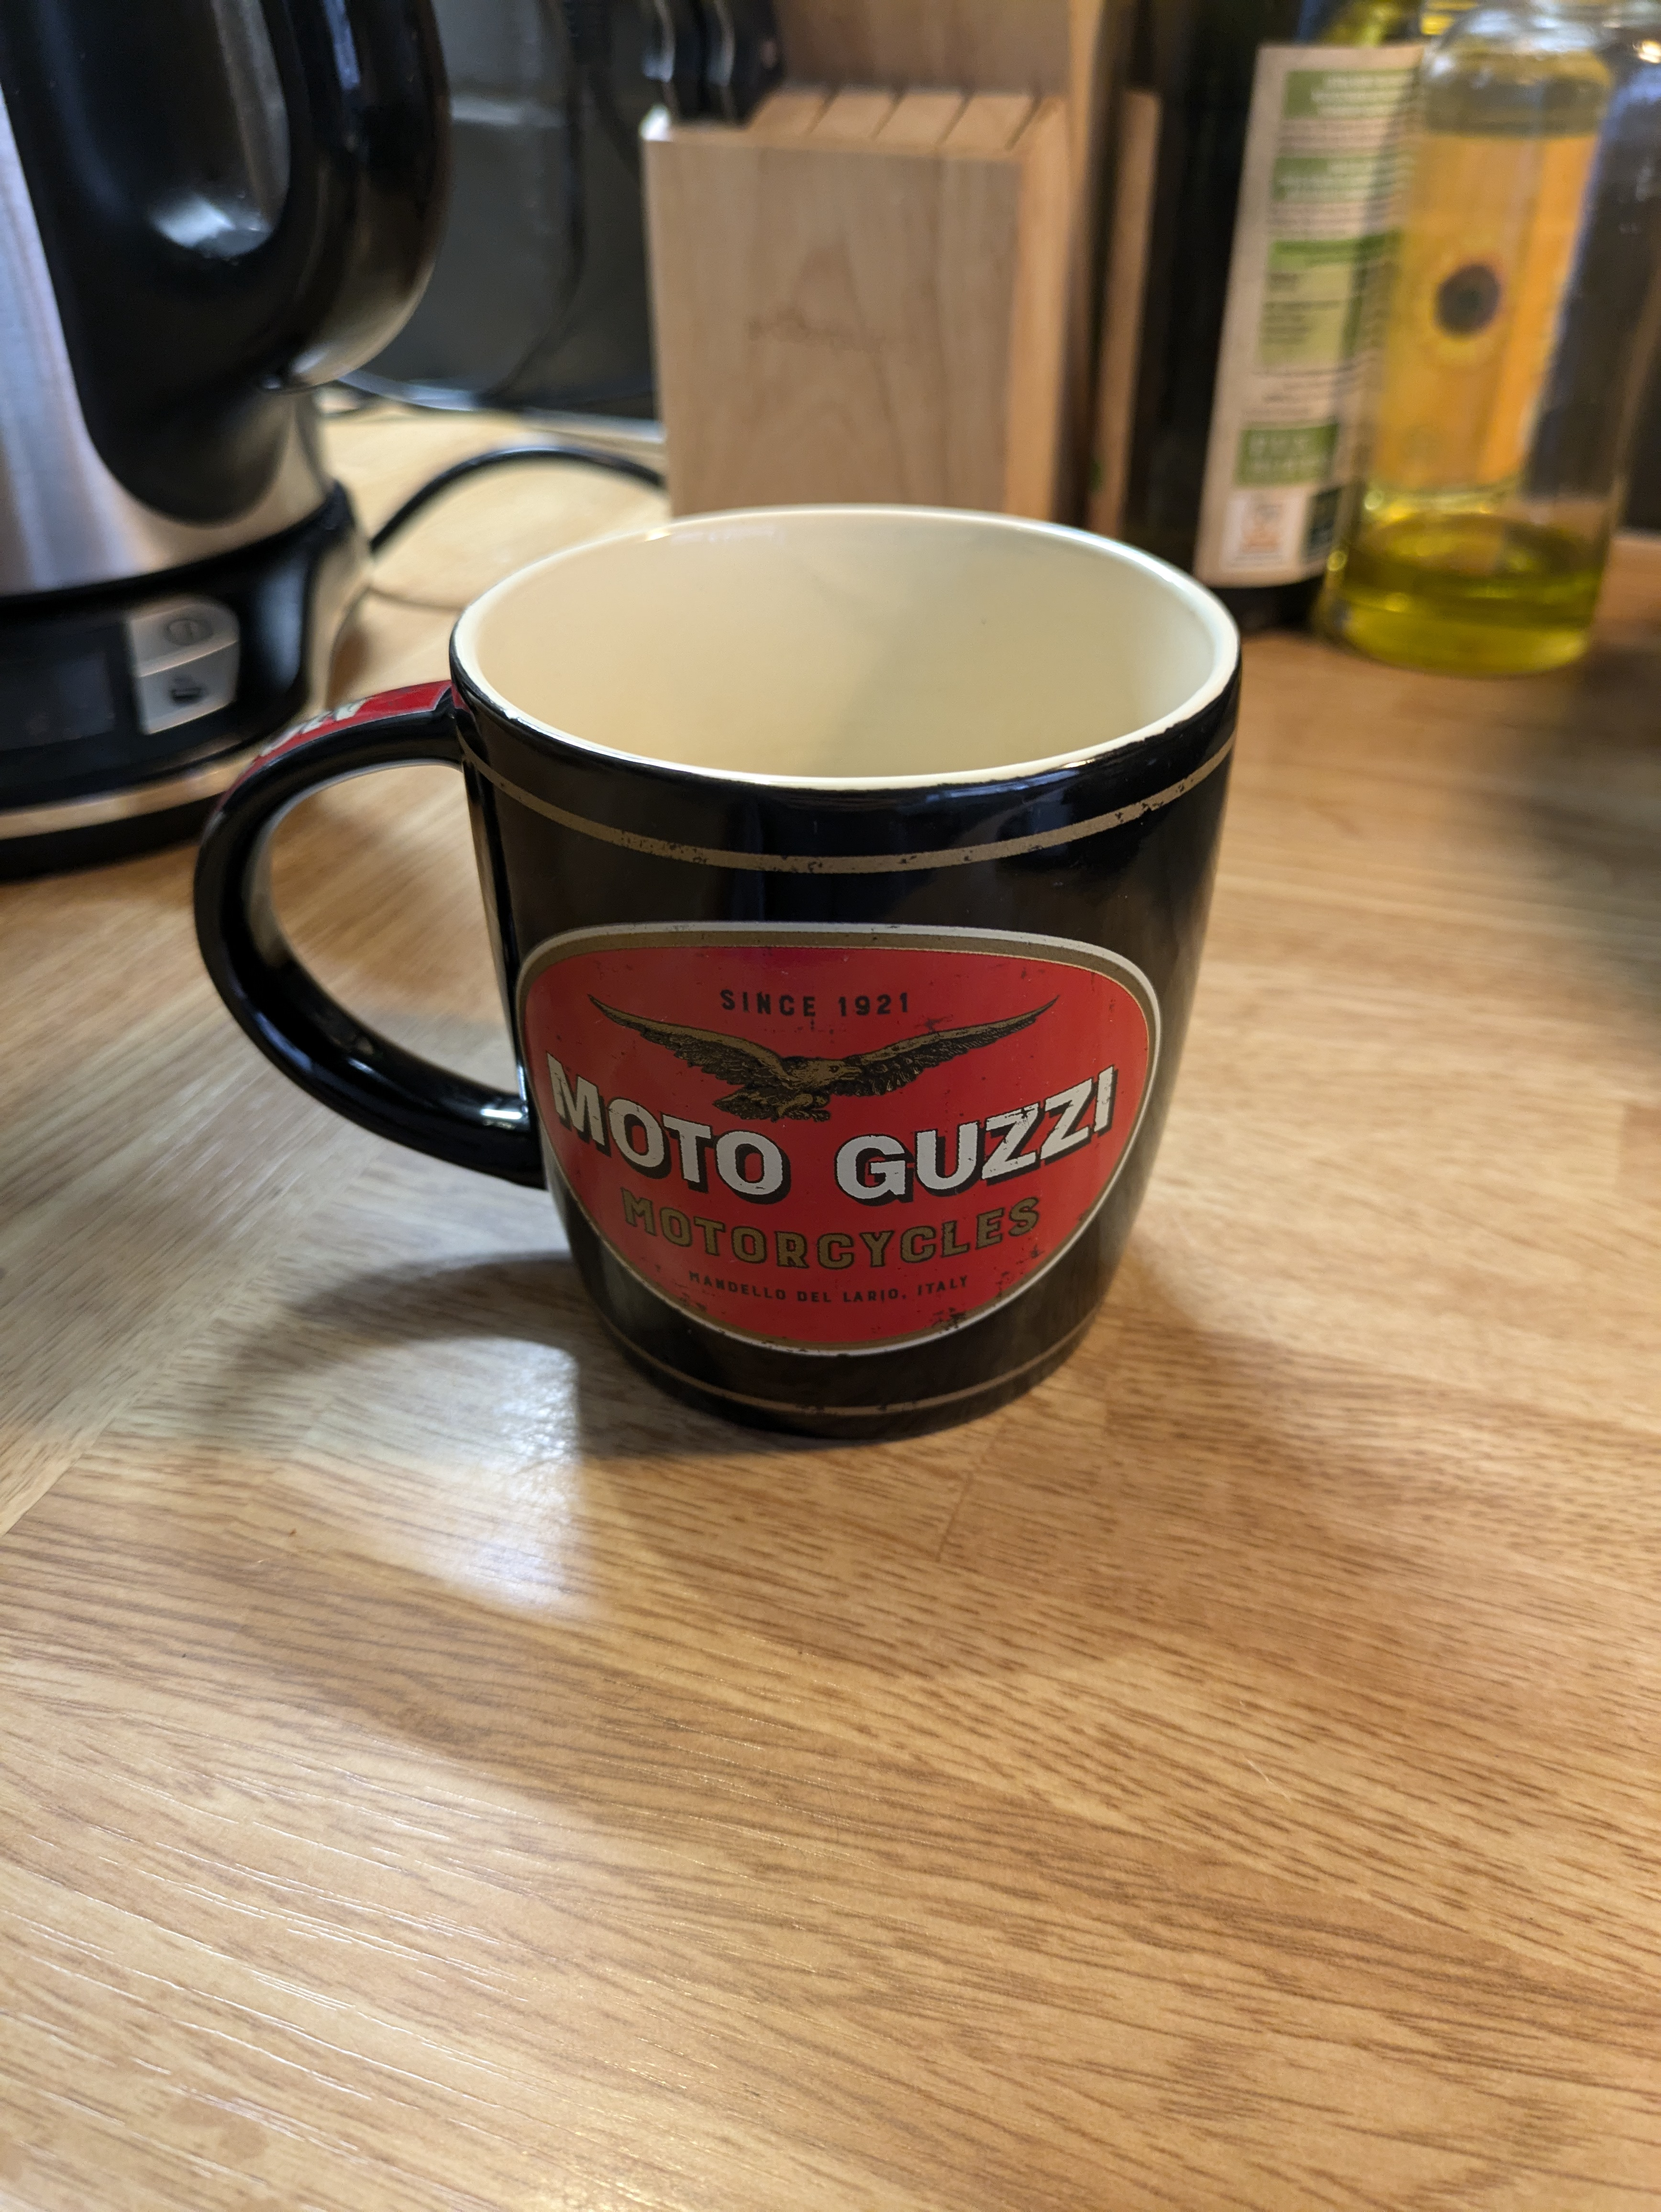mok: (181, 464, 1275, 1476)
